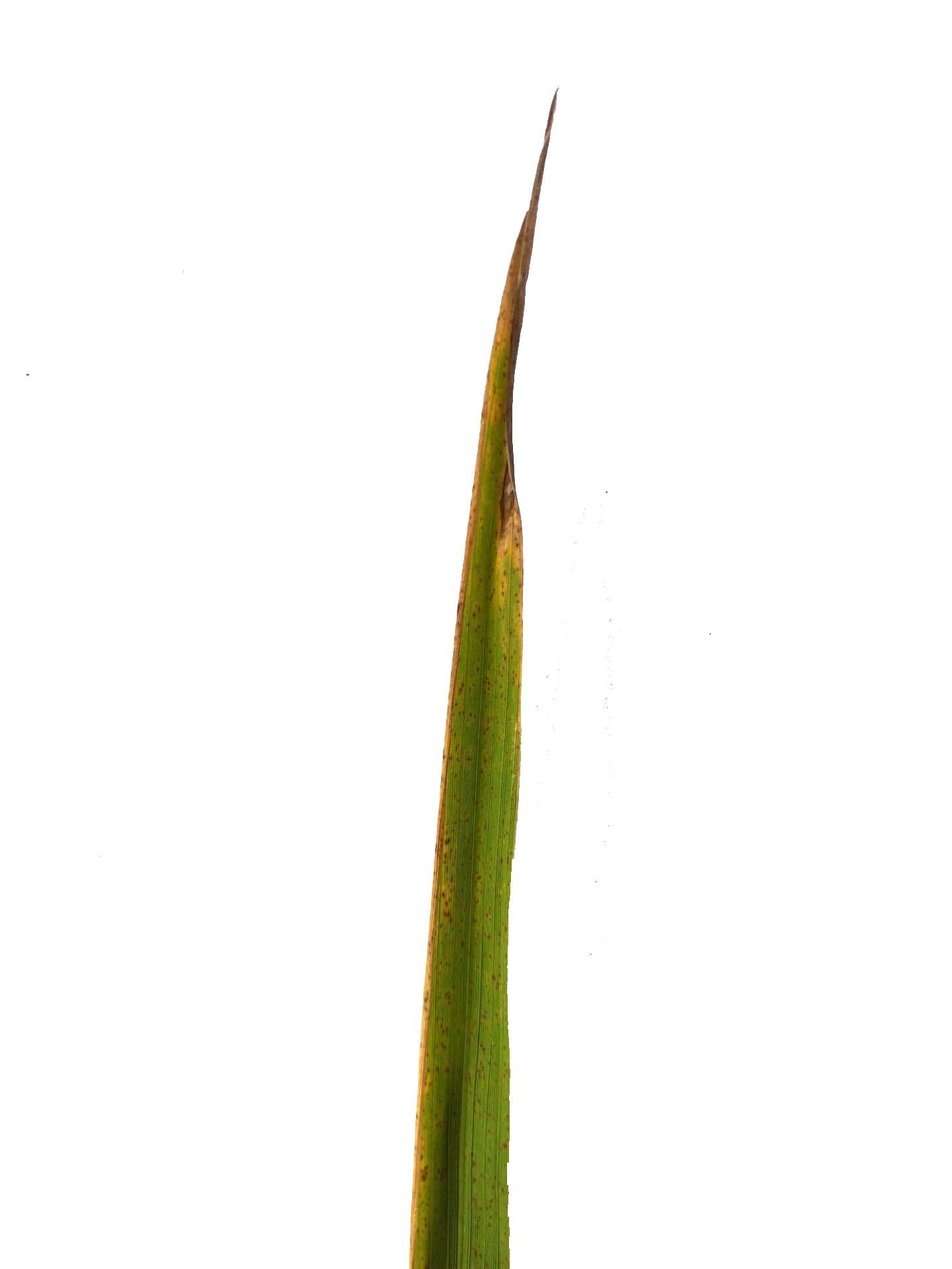Tungro: (407, 91, 559, 1269)
